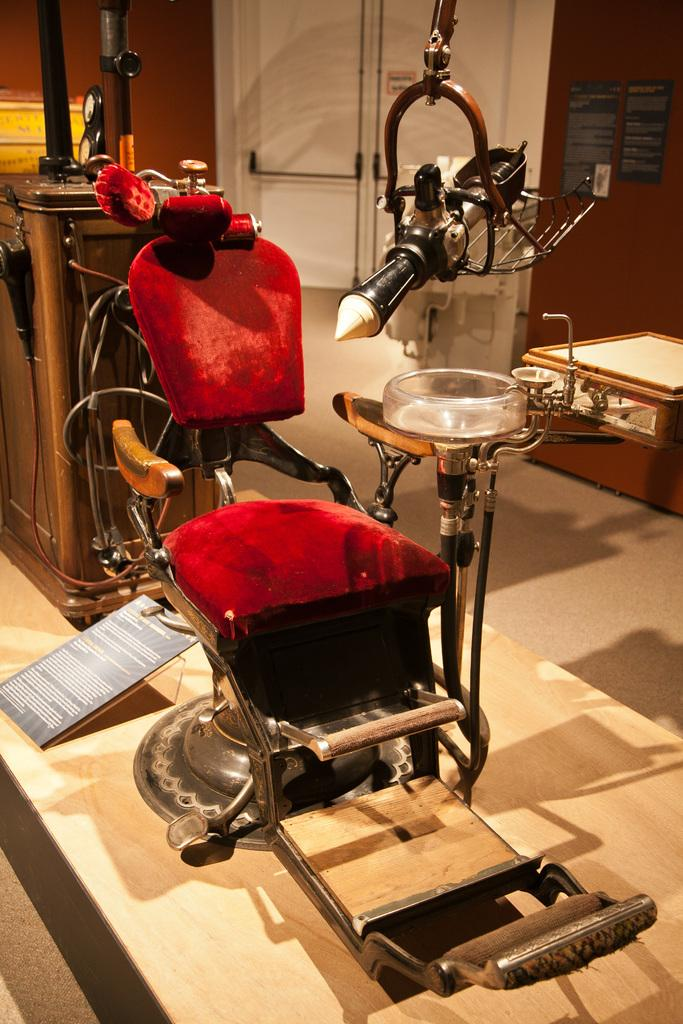Chair: (110, 294, 566, 974)
